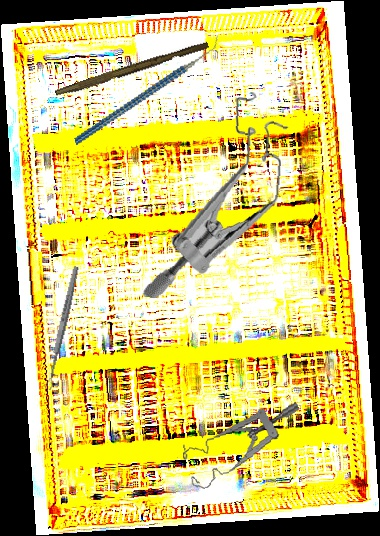Chopper: (57, 32, 236, 146)
Scalpel Handle: (54, 38, 210, 101)
Speculum: (140, 82, 295, 311), (177, 401, 309, 492)
Surgical Spoon: (43, 265, 81, 391)
